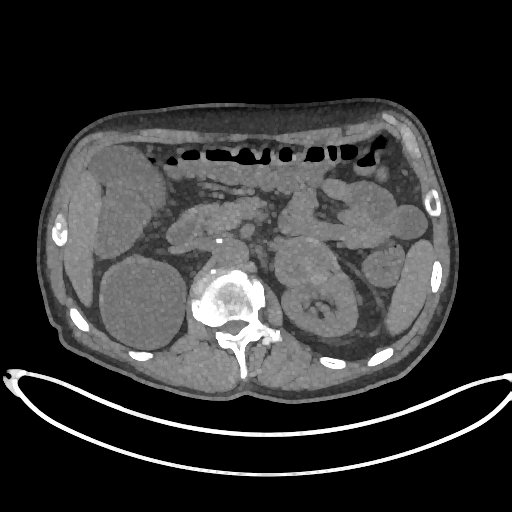Lesion: (269, 235, 344, 289)
